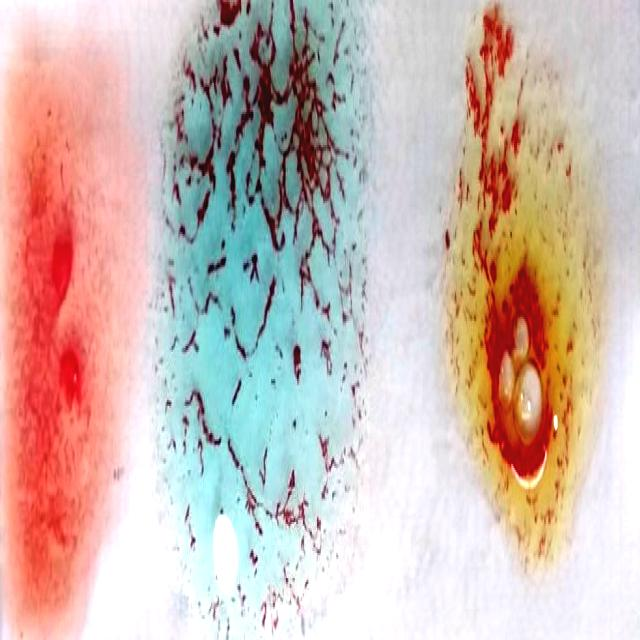A: (163, 2, 366, 626)
B: (451, 1, 596, 574)
D: (3, 42, 122, 629)
